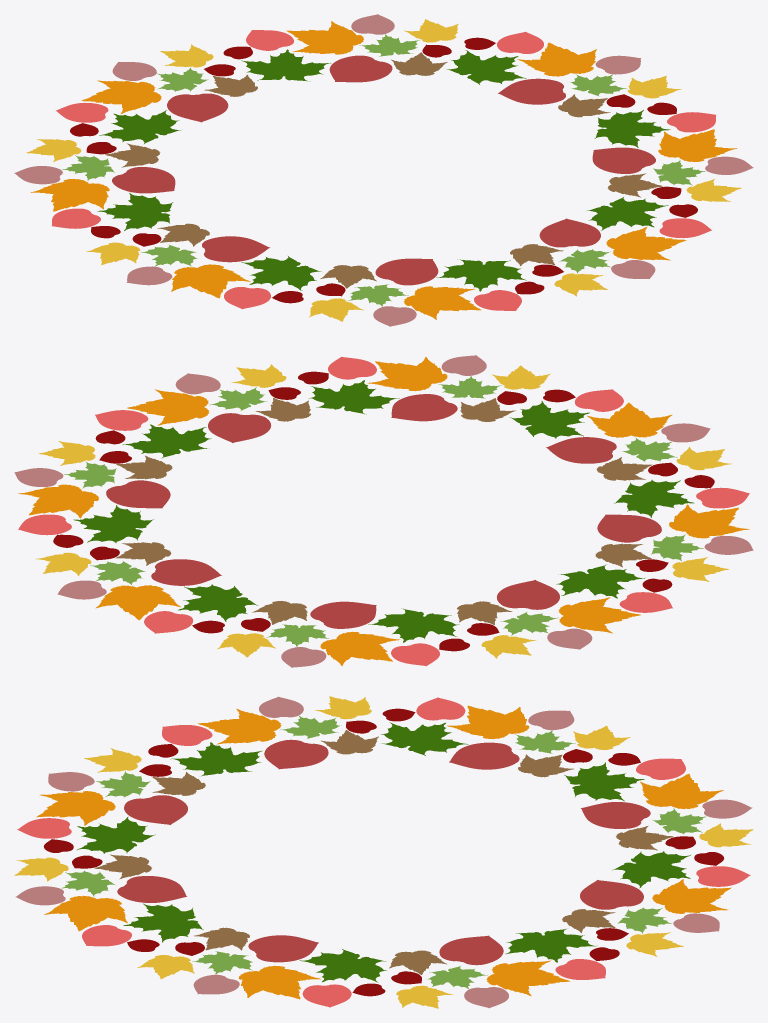
The picture shows the model from 3 angles, top to bottom: view 1: azimuth 30°, elevation 25°; view 2: azimuth 150°, elevation 25°; view 3: azimuth 270°, elevation 25°; orthographic projection. The views are drawn at different scales.
Visible parts, largest first — view 1: LEaf_3 (×24), Leaf_2 (×24), Leaf_1 (×16); view 2: LEaf_3 (×24), Leaf_2 (×24), Leaf_1 (×16); view 3: LEaf_3 (×24), Leaf_2 (×24), Leaf_1 (×16).
Part boxes in pixels (<box>): LEaf_3 (×24): <box>26,19,741,321</box>; Leaf_2 (×24): <box>14,14,753,326</box>; Leaf_1 (×16): <box>62,34,705,306</box>; LEaf_3 (×24): <box>18,357,749,665</box>; Leaf_2 (×24): <box>14,355,753,667</box>; Leaf_1 (×16): <box>64,376,703,646</box>; LEaf_3 (×24): <box>14,696,753,1008</box>; Leaf_2 (×24): <box>15,696,752,1008</box>; Leaf_1 (×16): <box>61,716,706,988</box>.
Size of the model in its own units: 6228 by 6228 by 7.67e-12.
